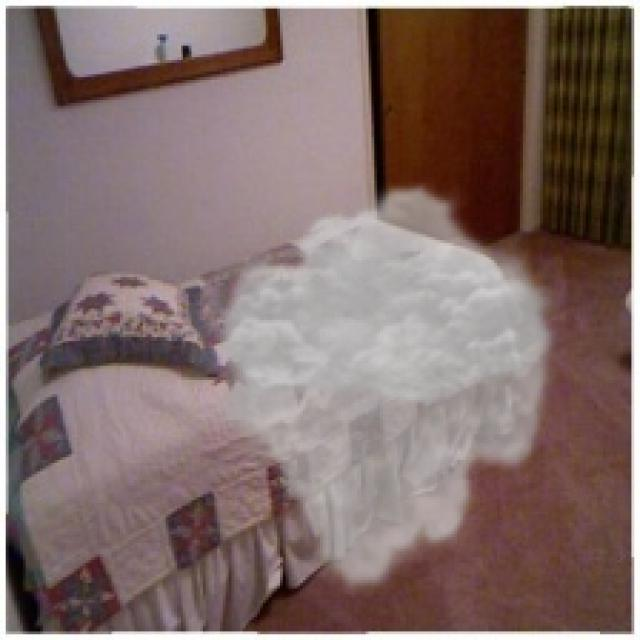smoke: (208, 180, 563, 597)
